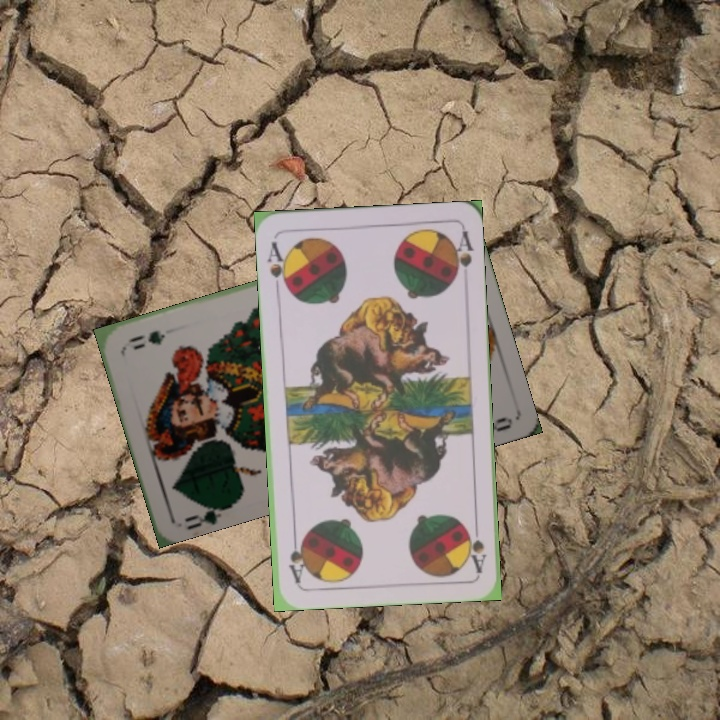GO: (181, 498, 234, 531)
SA: (263, 237, 292, 295), (463, 516, 488, 575)
